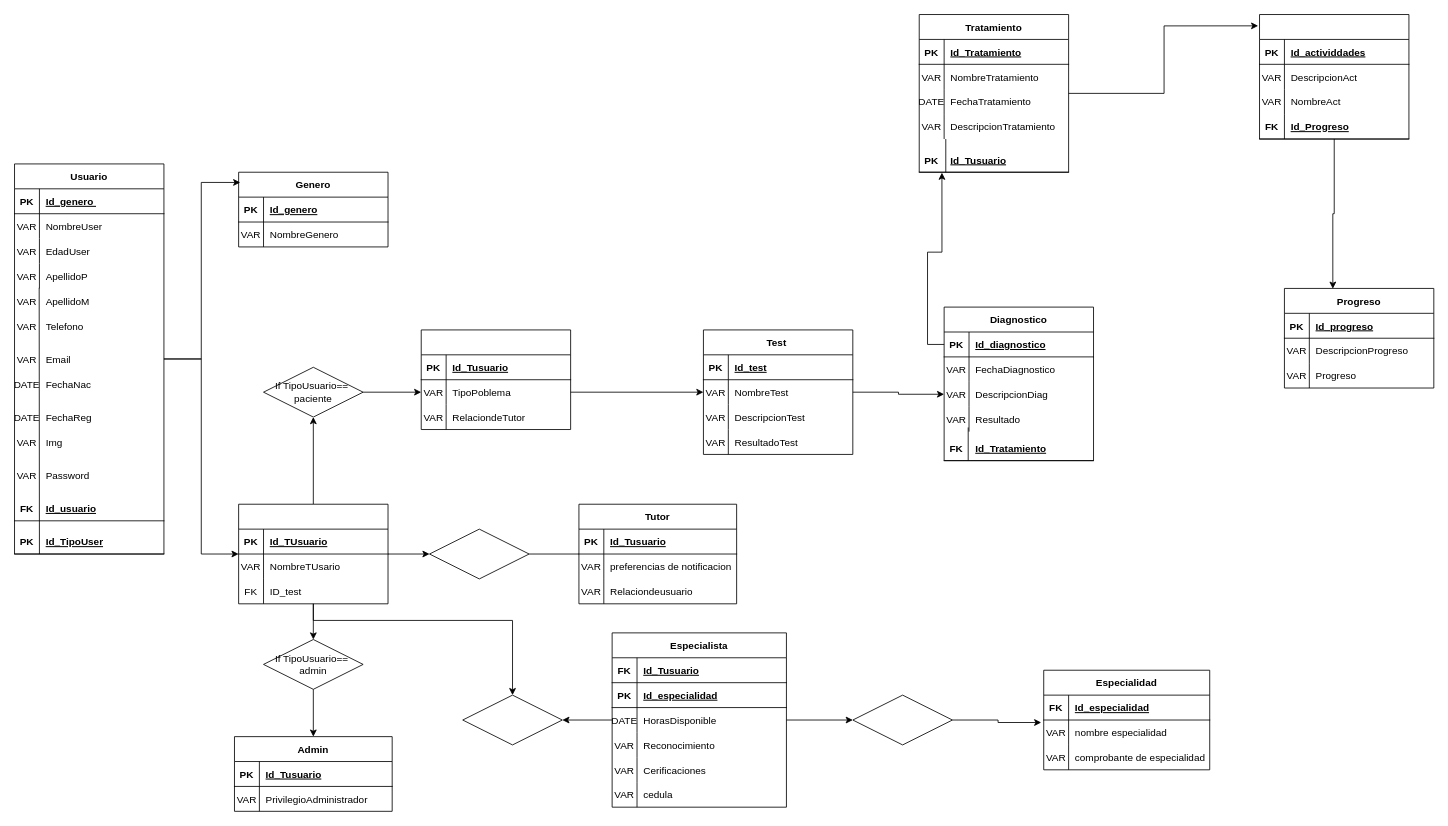
The diagram is 1448 pixels wide and 826 high, and some of its shapes have lost their labels. The shapes that lost their labels are listed below. From the top down, each one's box as (x1, y1, x2, y2) in pixels, then its label:
(1259, 14, 1409, 139): Actividades
(420, 329, 571, 430): Paciente
(238, 503, 388, 604): TipoUsuario
(429, 528, 529, 579): If TipoUsuario== tutor
(462, 694, 562, 745): If TipoUsuario== especialista
(852, 694, 952, 745): Tiene
